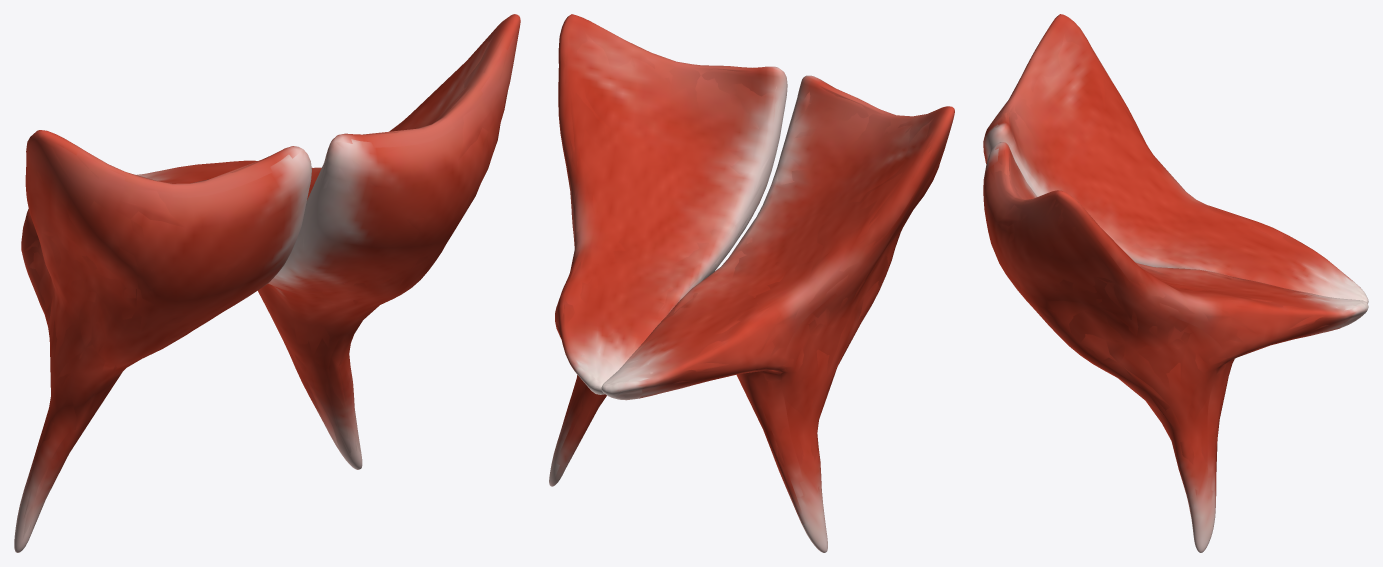
The model's file is Pectoralis transversus.fbx.
The picture shows the model from 3 angles, left to right: view 1: azimuth 30°, elevation 25°; view 2: azimuth 150°, elevation 25°; view 3: azimuth 270°, elevation 25°; orthographic projection. The views are drawn at different scales.
Visible parts, largest first — view 1: Pectoralis transversus, Pectoralis transversus low; view 2: Pectoralis transversus, Pectoralis transversus low; view 3: Pectoralis transversus, Pectoralis transversus low.
Part boxes in pixels (box(x1,y1,x2,y2)): Pectoralis transversus: box(14, 14, 520, 552); Pectoralis transversus low: box(22, 15, 519, 539); Pectoralis transversus: box(549, 14, 954, 552); Pectoralis transversus low: box(553, 17, 954, 532); Pectoralis transversus: box(983, 14, 1368, 552); Pectoralis transversus low: box(983, 18, 1367, 540).
Bounding box in the file's own units: 34.12 × 34.06 × 30.77.
